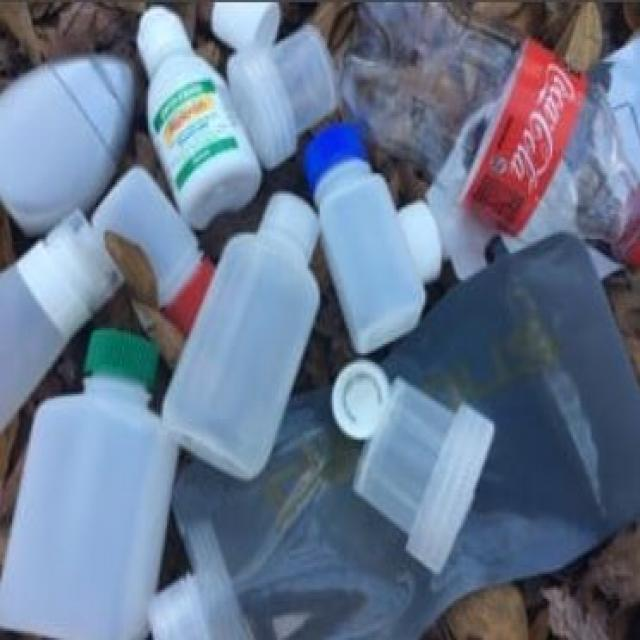plastic: (343, 6, 640, 292), (0, 322, 197, 640), (157, 170, 329, 493), (348, 359, 524, 579), (292, 114, 438, 356), (133, 0, 265, 215), (0, 52, 150, 240)
